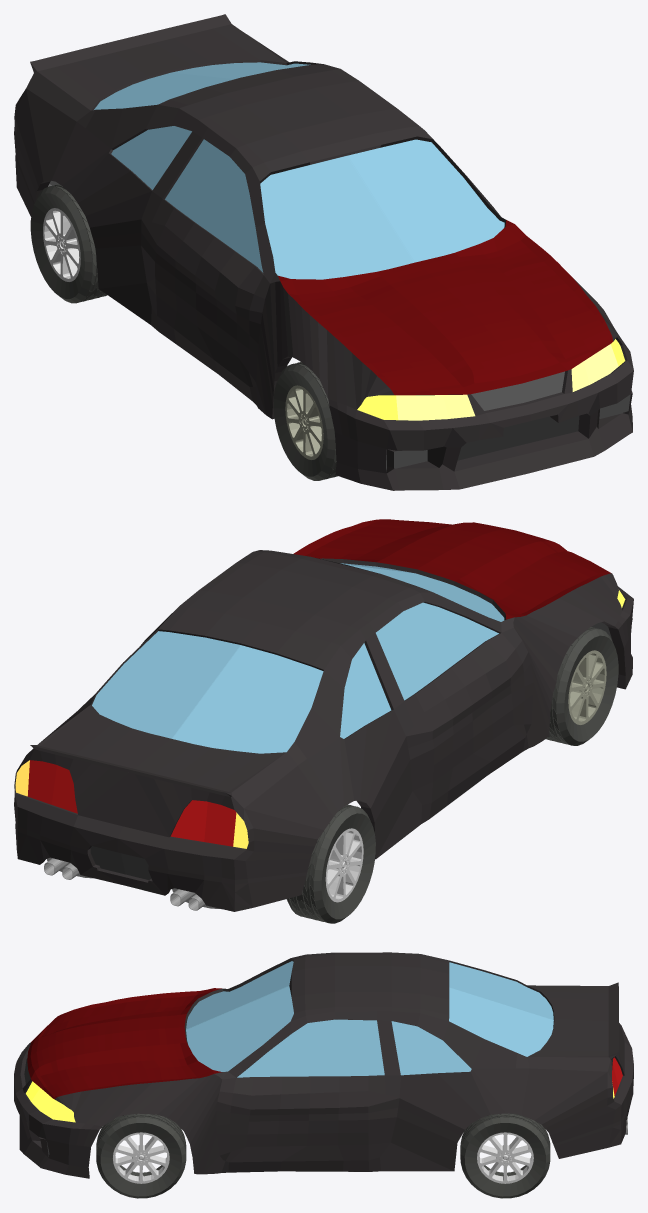
3 views of the same model, one above another, from view 1: azimuth 30°, elevation 25°; view 2: azimuth 150°, elevation 25°; view 3: azimuth 270°, elevation 25° (orthographic). The views are drawn at different scales.
Parts seen in each view (by area): view 1: Car.004, Wheel.004, Wheel.003, Rim.003, Rim.004; view 2: Car.004, Wheel.004, Wheel.003, Rim.003, Rim.004, Exhaust; view 3: Car.004, Wheel, Wheel.002, Rim.002, Rim.
Part boxes in pixels (bbox=[...]): Car.004: bbox=[14, 14, 633, 490]; Wheel.004: bbox=[30, 184, 107, 303]; Wheel.003: bbox=[273, 362, 337, 480]; Rim.003: bbox=[285, 385, 323, 459]; Rim.004: bbox=[43, 208, 80, 281]; Car.004: bbox=[14, 519, 633, 911]; Wheel.004: bbox=[286, 804, 375, 923]; Wheel.003: bbox=[545, 627, 618, 745]; Rim.003: bbox=[568, 650, 606, 724]; Rim.004: bbox=[325, 828, 363, 902]; Exhaust: bbox=[44, 857, 221, 910]; Car.004: bbox=[14, 952, 633, 1178]; Wheel: bbox=[96, 1113, 186, 1198]; Wheel.002: bbox=[460, 1113, 550, 1198]; Rim.002: bbox=[477, 1132, 533, 1183]; Rim: bbox=[113, 1132, 169, 1183].
Bounding box in the file's own units: 193 × 141 × 473.
